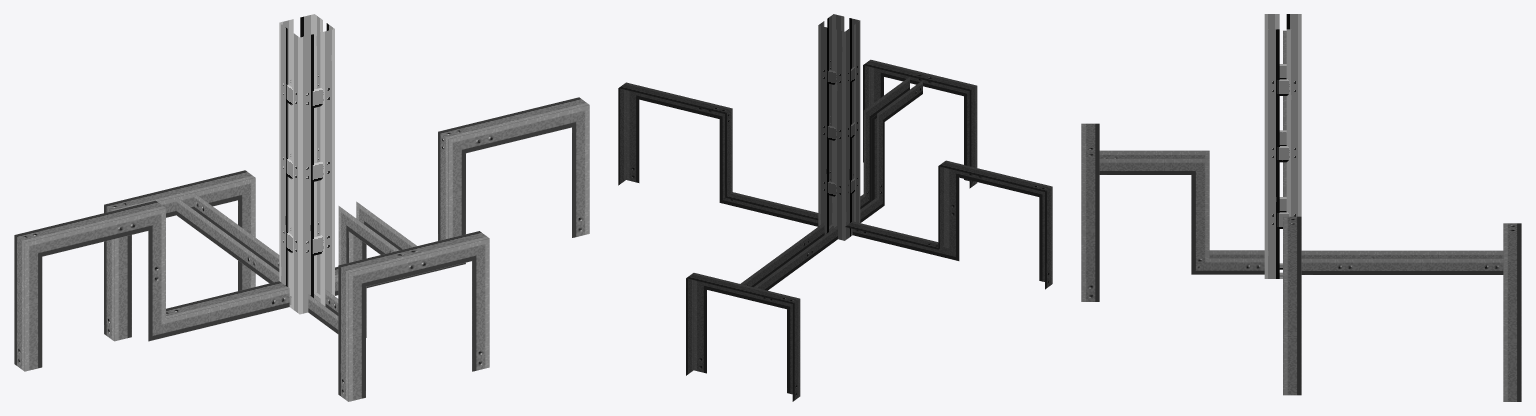
The model's file is Ptv_holderZ.obj.
3 renders of one model, left to right at view 1: azimuth 30°, elevation 25°; view 2: azimuth 150°, elevation 25°; view 3: azimuth 270°, elevation 25°, orthographic. The views are drawn at different scales.
Bounding box in the file's own units: 2563 × 1682 × 1921.
3 materials, 3 textured.
